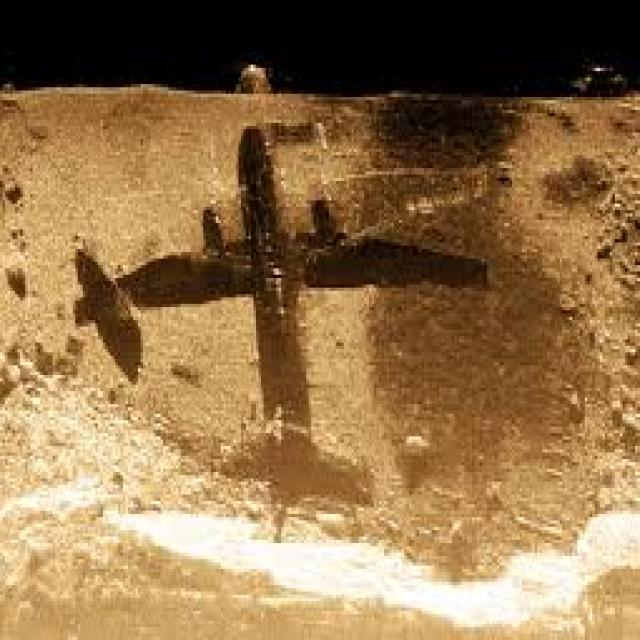plane: (53, 26, 499, 530)
